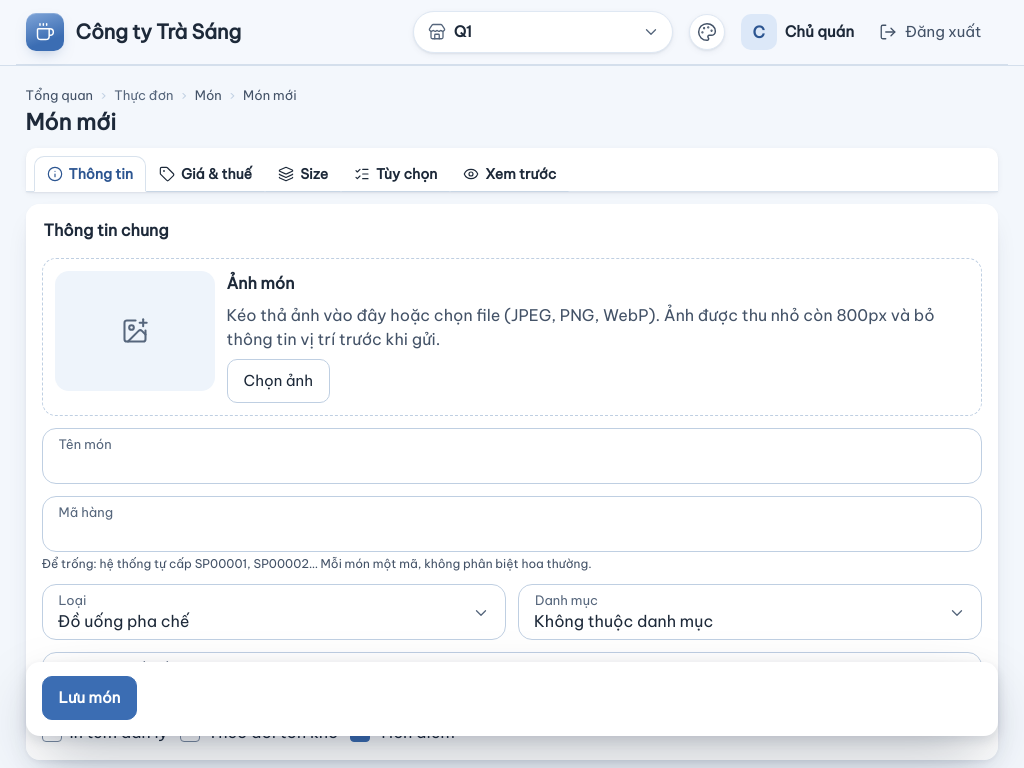
Test: the product editor › does not send a draft the rules refuse, and says so where it is wrong
This screenshot has width=1024, height=768.
Expected: the dropdown named "Chi nhánh đang xem" is shown, [413,11,673,53]
Click the button "Lưu món" at (89,698), box [42,676,137,720]
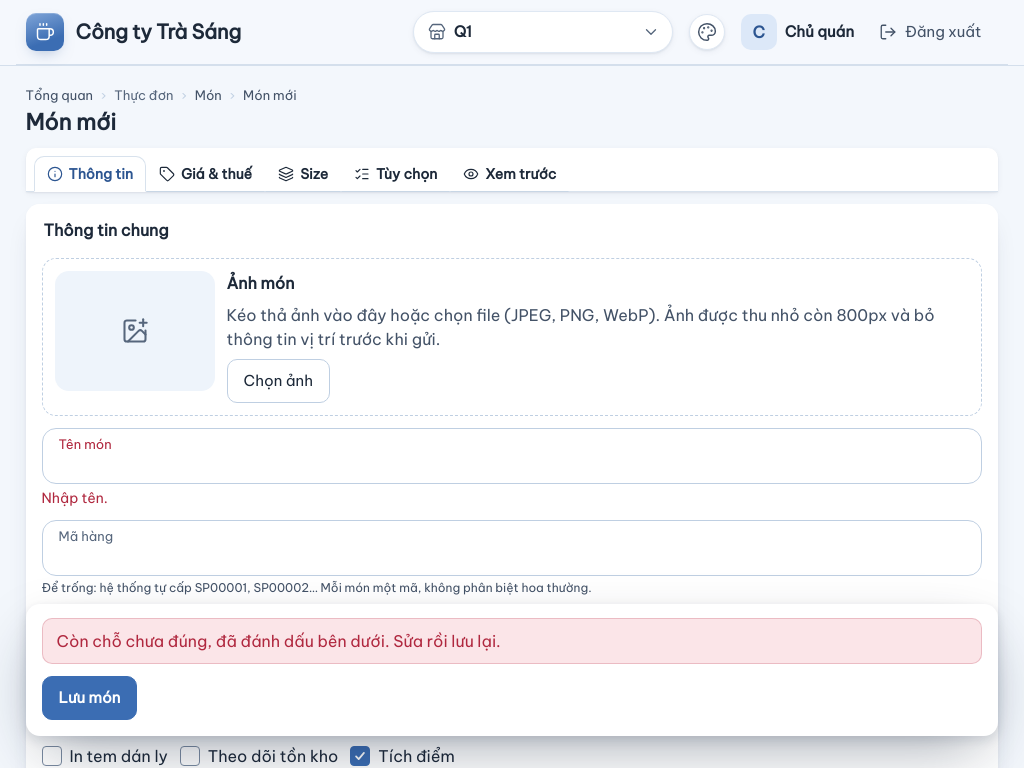
Expected: the text "Còn chỗ chưa đúng, đã đánh dấu bên dưới. Sửa rồi lưu lại." is shown, [42,618,982,664]
